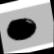correct: (4, 14, 39, 44)
